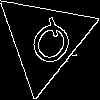Q: (20, 14, 79, 77)
